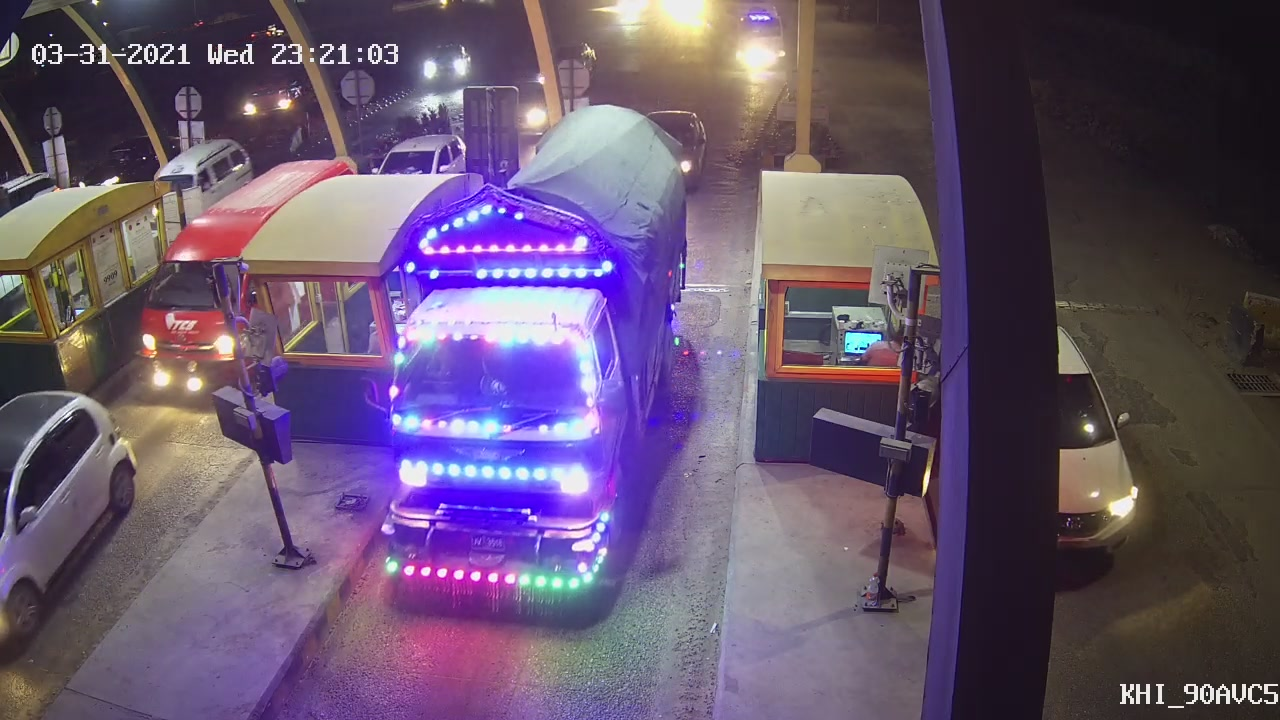F5: (362, 108, 710, 618)
